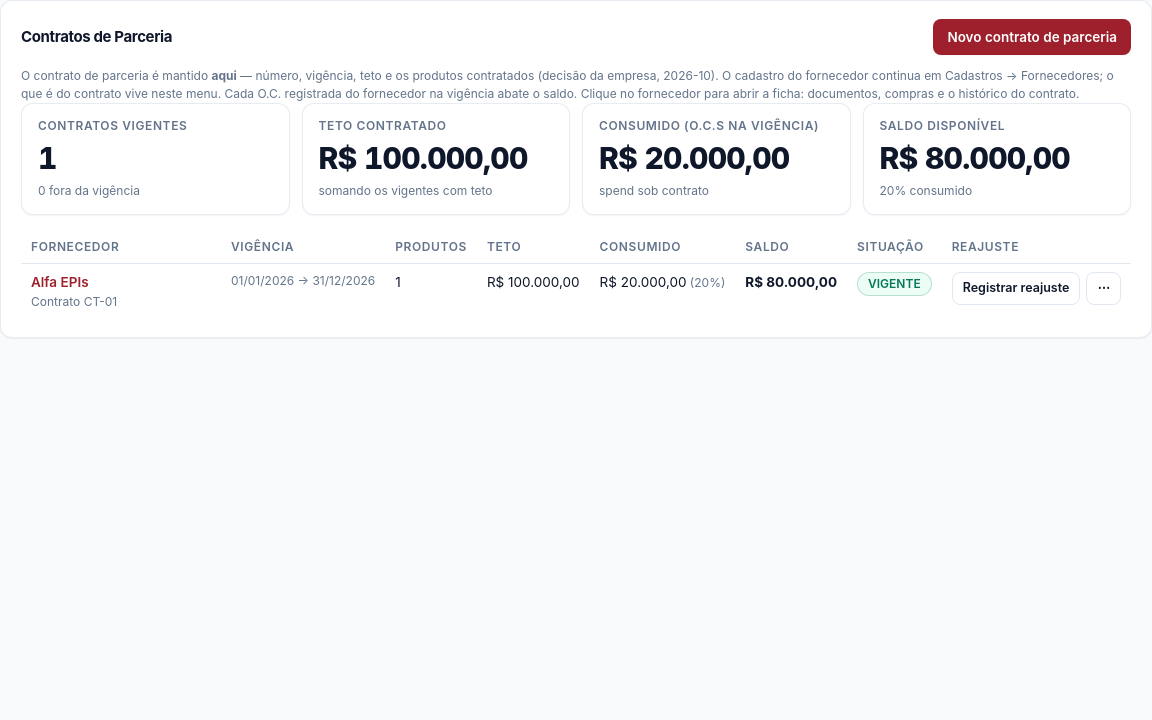
Test: tela Contratos de Parceria › o reajuste fechado acima do pleiteado não chega à API
Click the button "Registrar reajuste".
click(1016, 289)  # box [952, 272, 1080, 305]
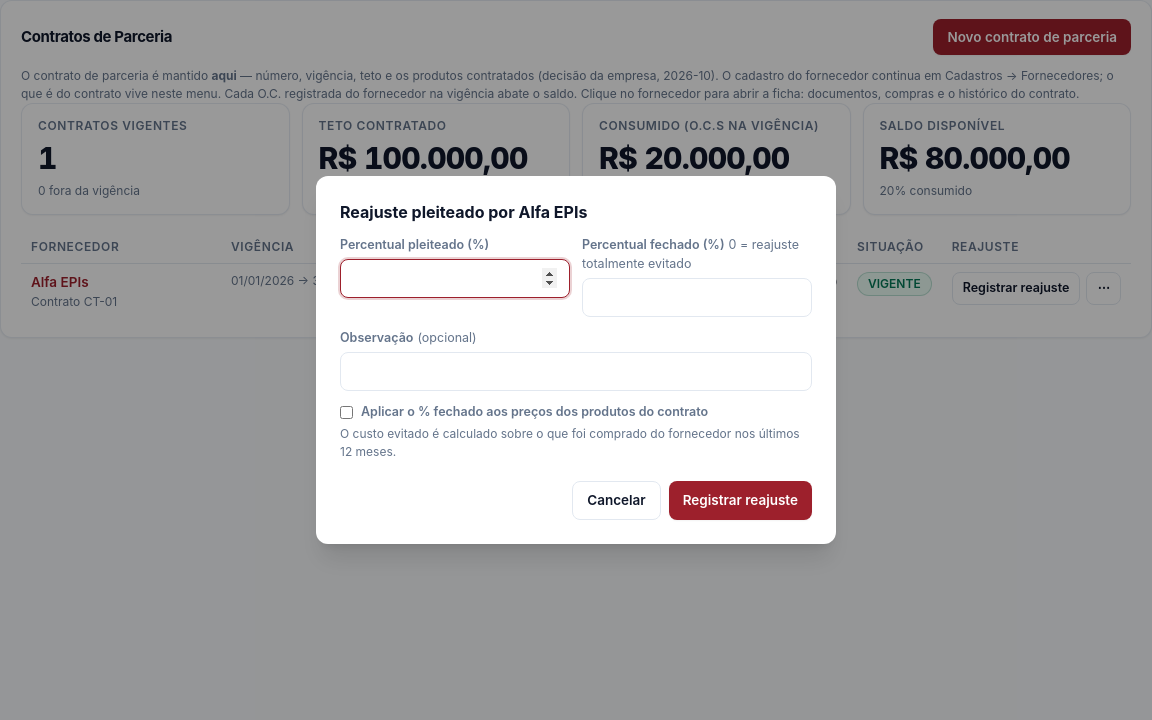
Type "8" into the number field labelled "Percentual pleiteado (%)".
click(455, 279); type("8")  # box [340, 259, 570, 298]
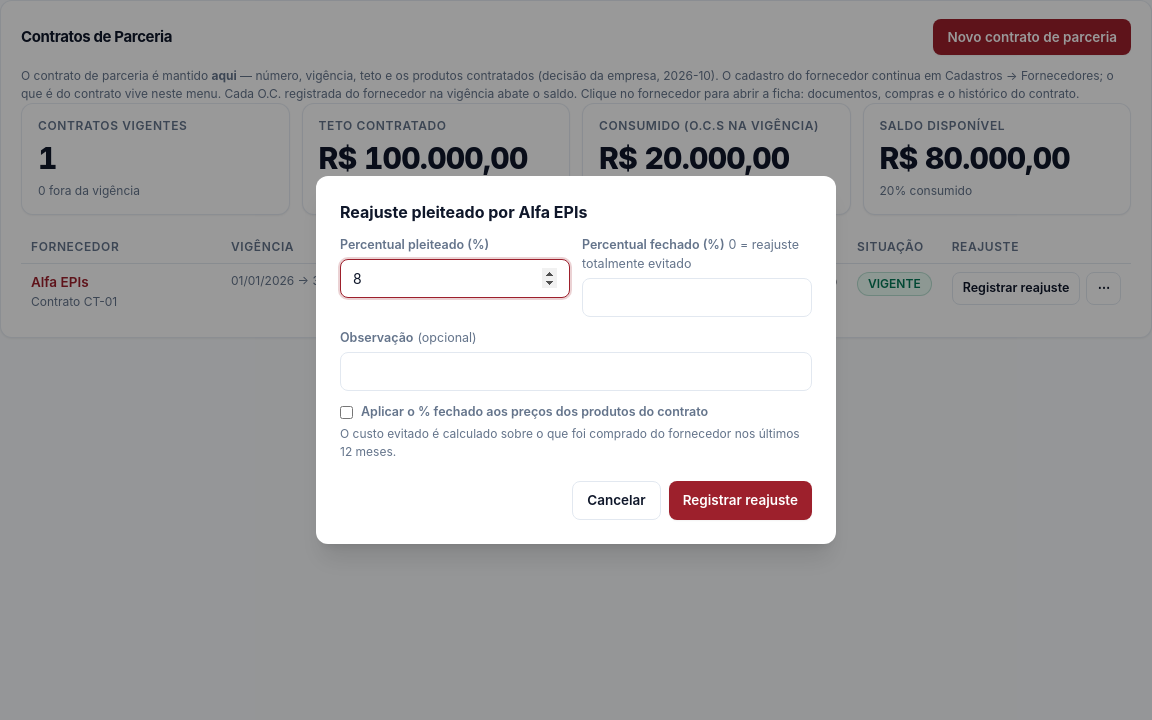
Type "9" into the number field labelled "Percentual fechado (%)0 = reajuste totalmente evitado".
click(697, 297); type("9")  # box [582, 278, 812, 317]
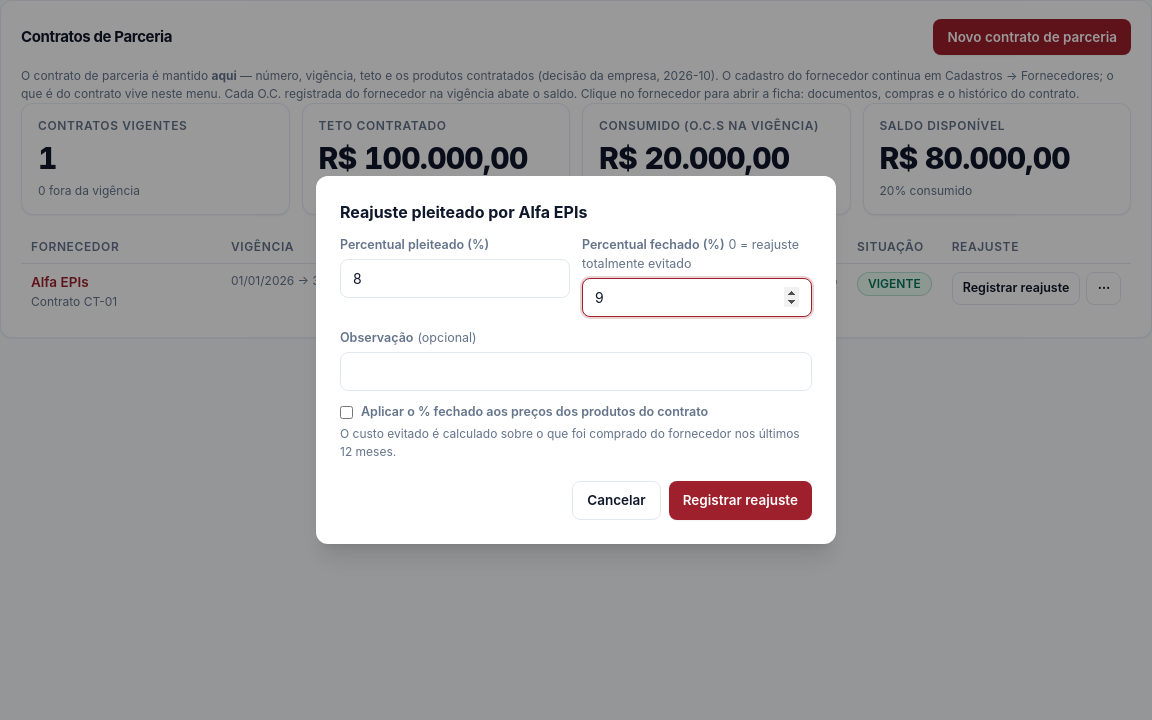
Click the button "Registrar reajuste".
click(740, 501)  # box [669, 481, 812, 520]
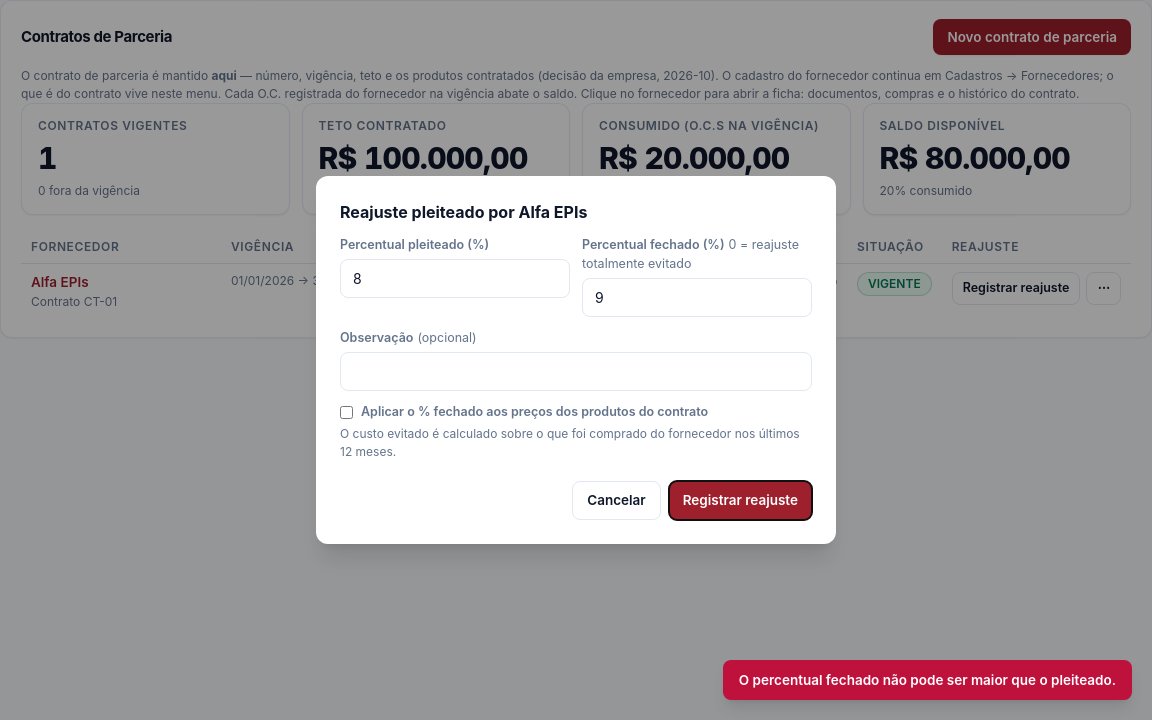
Expected: the text "O percentual fechado não pode ser maior que o pleiteado." is shown, [723, 660, 1132, 700]
